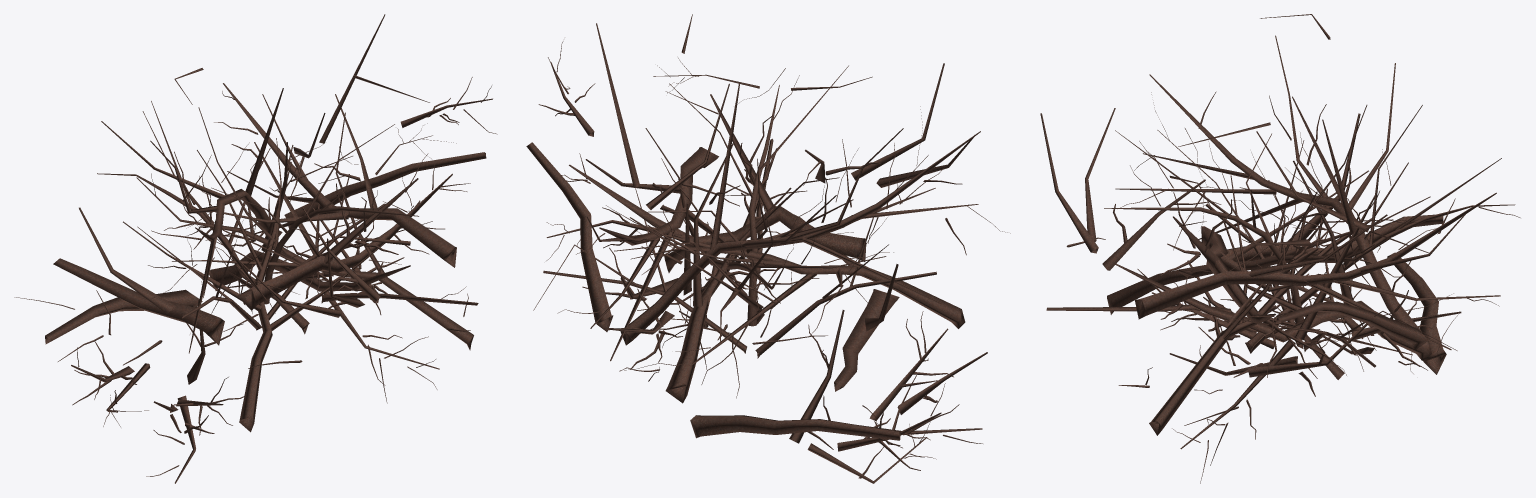
Rendered from birch-detached-limbs.gltf.
The picture shows the model from 3 angles, left to right: view 1: azimuth 30°, elevation 25°; view 2: azimuth 150°, elevation 25°; view 3: azimuth 270°, elevation 25°; orthographic projection. The views are drawn at different scales.
Visible parts, largest first — view 1: Birch_detached_limb_3, Birch_detached_limb_6, Birch_detached_limb_5, Birch_detached_limb_2, Birch_detached_limb_4, Birch_detached_limb_7, Birch_detached_limb_1, Birch_detached_limb_8; view 2: Birch_detached_limb_3, Birch_detached_limb_2, Birch_detached_limb_5, Birch_detached_limb_6, Birch_detached_limb_4, Birch_detached_limb_1, Birch_detached_limb_7, Birch_detached_limb_8; view 3: Birch_detached_limb_5, Birch_detached_limb_3, Birch_detached_limb_2, Birch_detached_limb_6, Birch_detached_limb_7, Birch_detached_limb_4, Birch_detached_limb_1, Birch_detached_limb_8.
Boxes of the visible parts, x1=… form: Birch_detached_limb_3: x1=45, y1=14, x2=497, y2=483; Birch_detached_limb_6: x1=53, y1=153, x2=470, y2=345; Birch_detached_limb_5: x1=186, y1=83, x2=456, y2=368; Birch_detached_limb_2: x1=14, y1=68, x2=486, y2=426; Birch_detached_limb_4: x1=123, y1=123, x2=456, y2=432; Birch_detached_limb_7: x1=136, y1=107, x2=473, y2=350; Birch_detached_limb_1: x1=137, y1=124, x2=432, y2=330; Birch_detached_limb_8: x1=97, y1=101, x2=478, y2=334; Birch_detached_limb_3: x1=538, y1=14, x2=987, y2=443; Birch_detached_limb_2: x1=526, y1=76, x2=1010, y2=483; Birch_detached_limb_5: x1=557, y1=63, x2=973, y2=381; Birch_detached_limb_6: x1=546, y1=91, x2=899, y2=391; Birch_detached_limb_4: x1=606, y1=58, x2=965, y2=398; Birch_detached_limb_1: x1=533, y1=65, x2=936, y2=358; Birch_detached_limb_7: x1=645, y1=128, x2=893, y2=322; Birch_detached_limb_8: x1=614, y1=138, x2=773, y2=342; Birch_detached_limb_5: x1=1040, y1=108, x2=1520, y2=396; Birch_detached_limb_3: x1=1115, y1=119, x2=1446, y2=483; Birch_detached_limb_2: x1=1115, y1=14, x2=1436, y2=355; Birch_detached_limb_6: x1=1118, y1=113, x2=1443, y2=394; Birch_detached_limb_7: x1=1149, y1=105, x2=1412, y2=435; Birch_detached_limb_4: x1=1107, y1=128, x2=1453, y2=373; Birch_detached_limb_1: x1=1104, y1=92, x2=1457, y2=367; Birch_detached_limb_8: x1=1046, y1=105, x2=1515, y2=353.
Size of the model in its own units: 294 by 249 by 282.
1 material, 1 textured.
